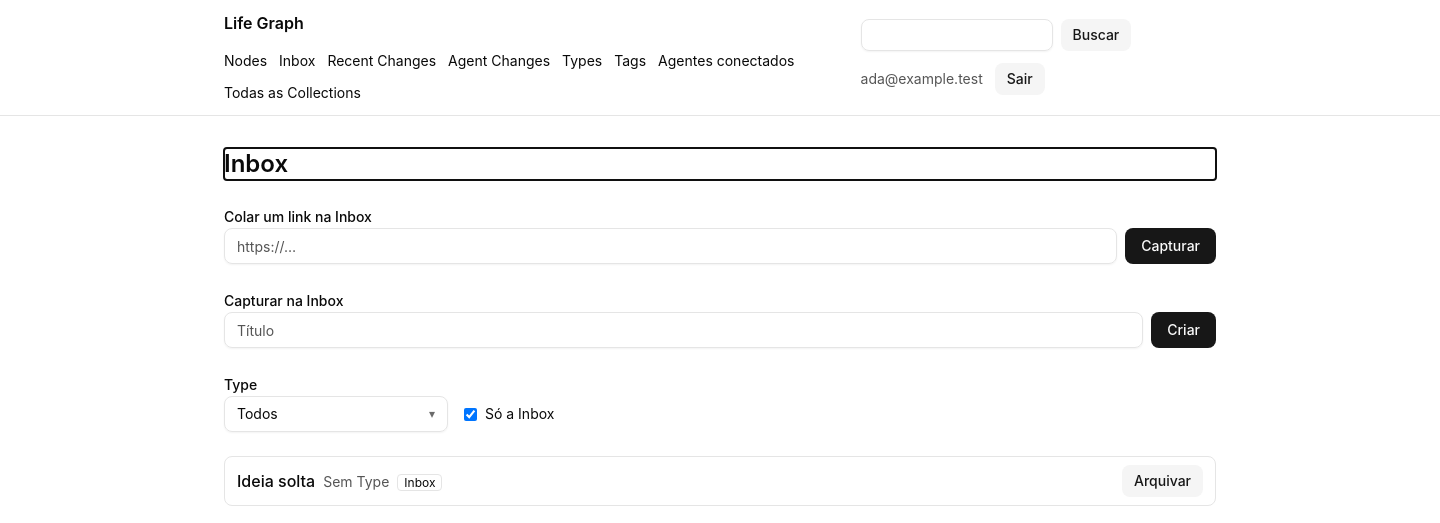
node list › shows the Inbox and archives a Node out of it
The image size is (1440, 523).
Expected: the heading "Inbox" is shown, [224, 149, 288, 178]
What coordinates should you click on to do the following:
click the button with aria-label "Arquivar Ideia solta"
I would click on:
 (1162, 481)
Its box is [1122, 465, 1203, 497].
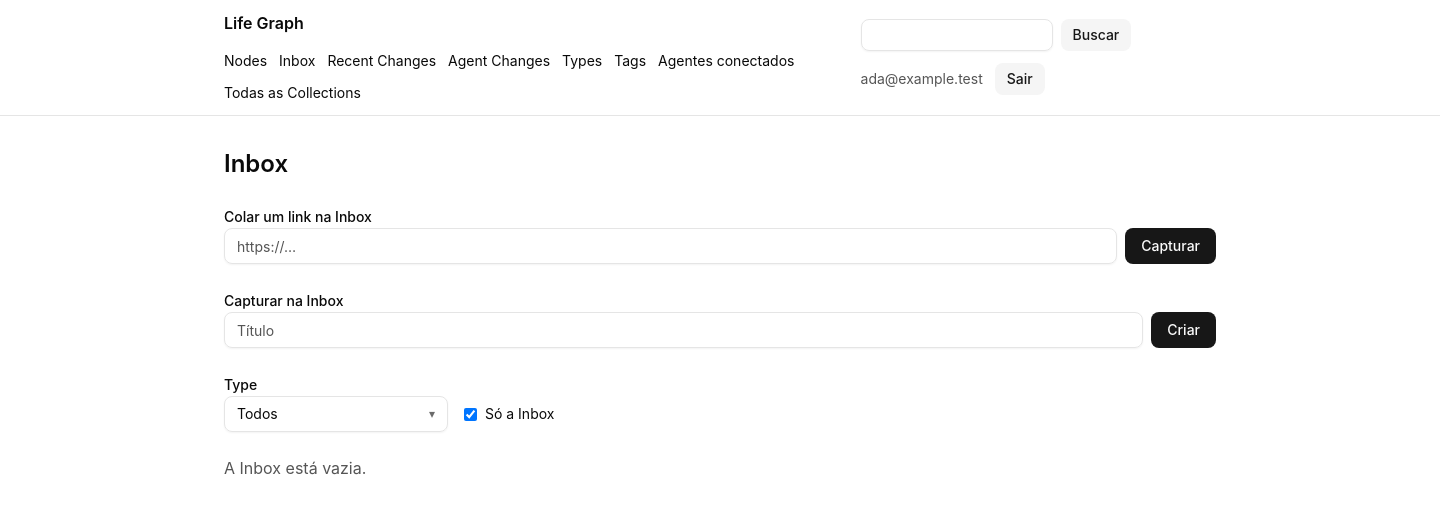
Expected: the text "A Inbox está vazia." is shown, [224, 458, 366, 478]
